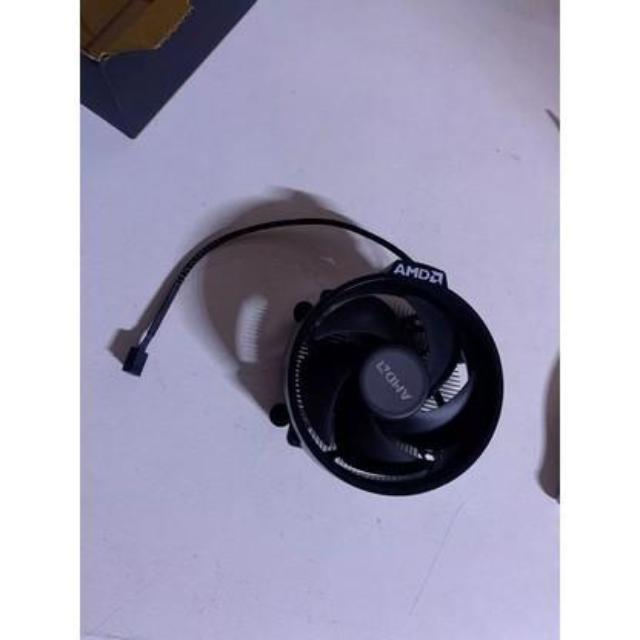CPU_Fan: (277, 260, 508, 498)
